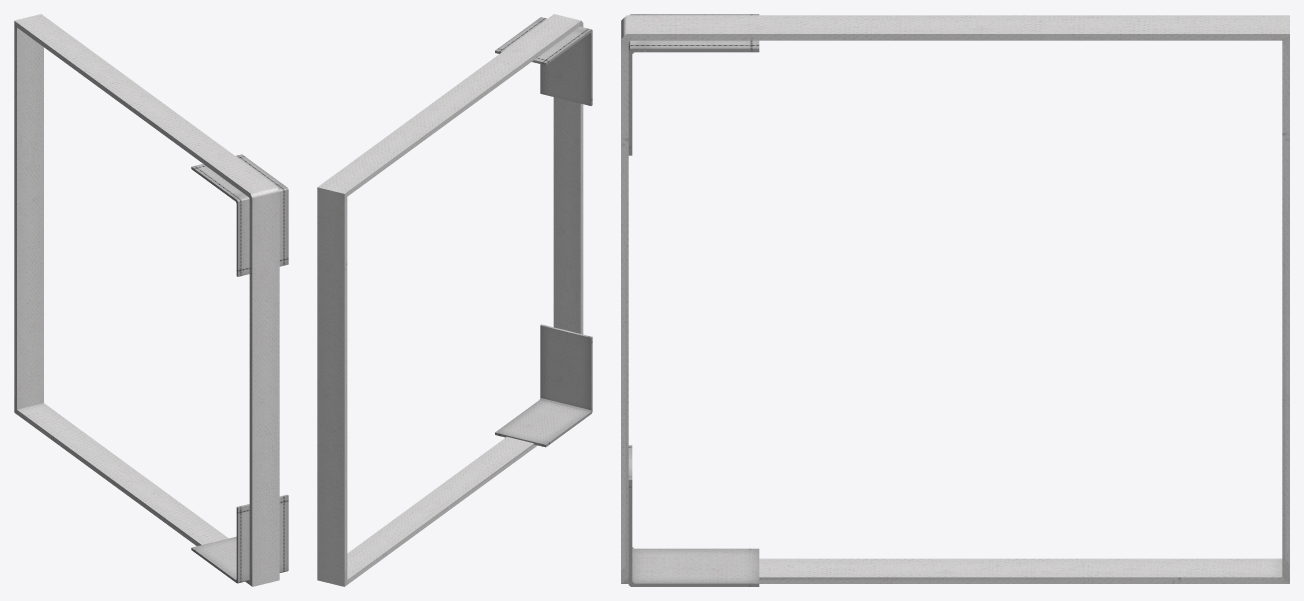
Rendered from SlingBelt_Right.fbx.
The picture shows the model from 3 angles, left to right: view 1: azimuth 30°, elevation 25°; view 2: azimuth 150°, elevation 25°; view 3: azimuth 270°, elevation 25°; orthographic projection. The views are drawn at different scales.
Parts seen in each view (by area): view 1: Slingbelt_Right; view 2: Slingbelt_Right; view 3: Slingbelt_Right.
Boxes of the visible parts, x1,y1,x2,y2 form: Slingbelt_Right: [14, 14, 288, 586]; Slingbelt_Right: [317, 14, 592, 586]; Slingbelt_Right: [621, 14, 1289, 586].
Size of the model in its own units: 10.93 by 80.57 by 88.76.
